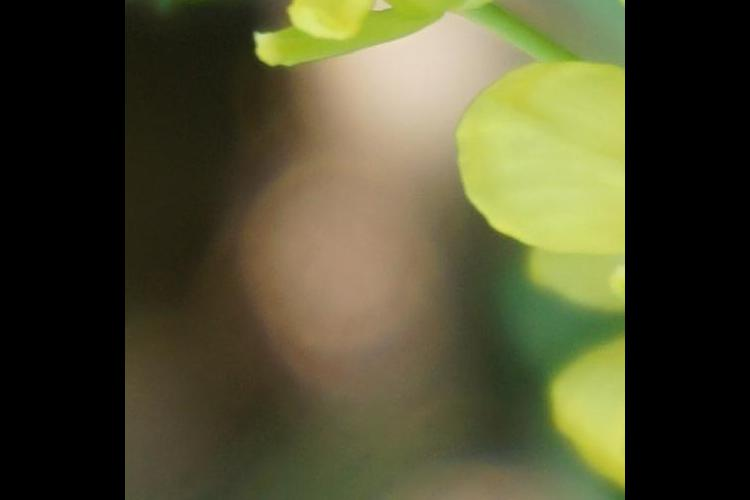yellow: (463, 55, 625, 489)
